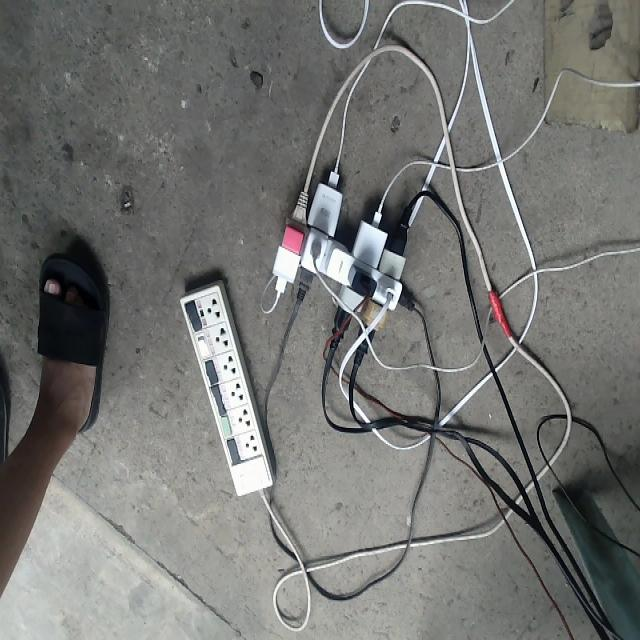-: (268, 161, 416, 351)
